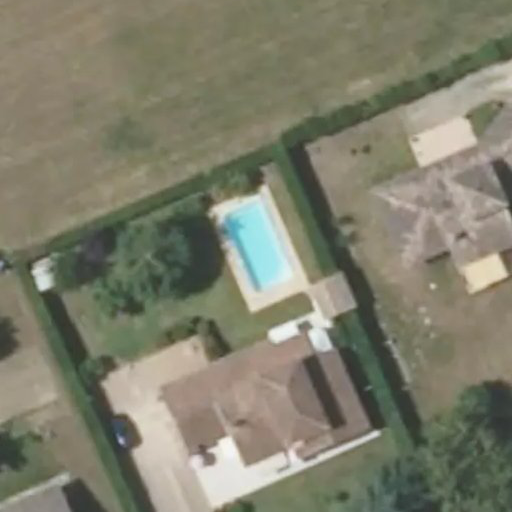pool: (218, 210, 292, 273)
